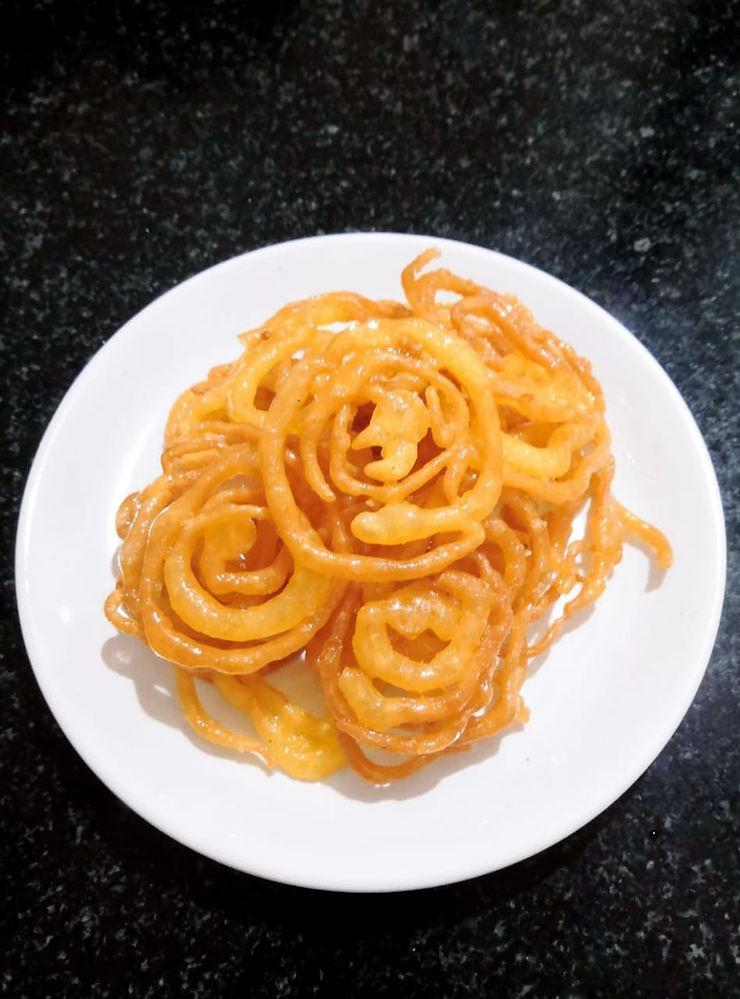jalebi: (115, 314, 645, 750)
